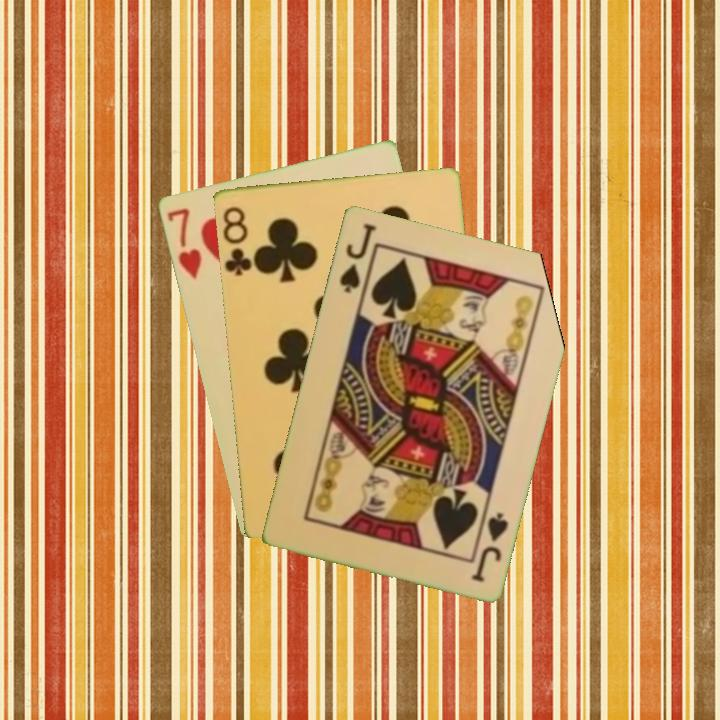7h: (163, 204, 204, 283)
8c: (219, 203, 257, 278)
Js: (335, 219, 379, 296), (467, 508, 511, 585)
